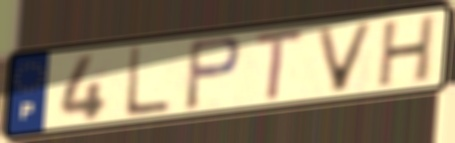4: (57, 51, 110, 123)
H: (374, 12, 439, 91)
L: (122, 44, 172, 120)
P: (181, 34, 245, 113)
T: (252, 26, 307, 105)
V: (312, 20, 378, 95)
